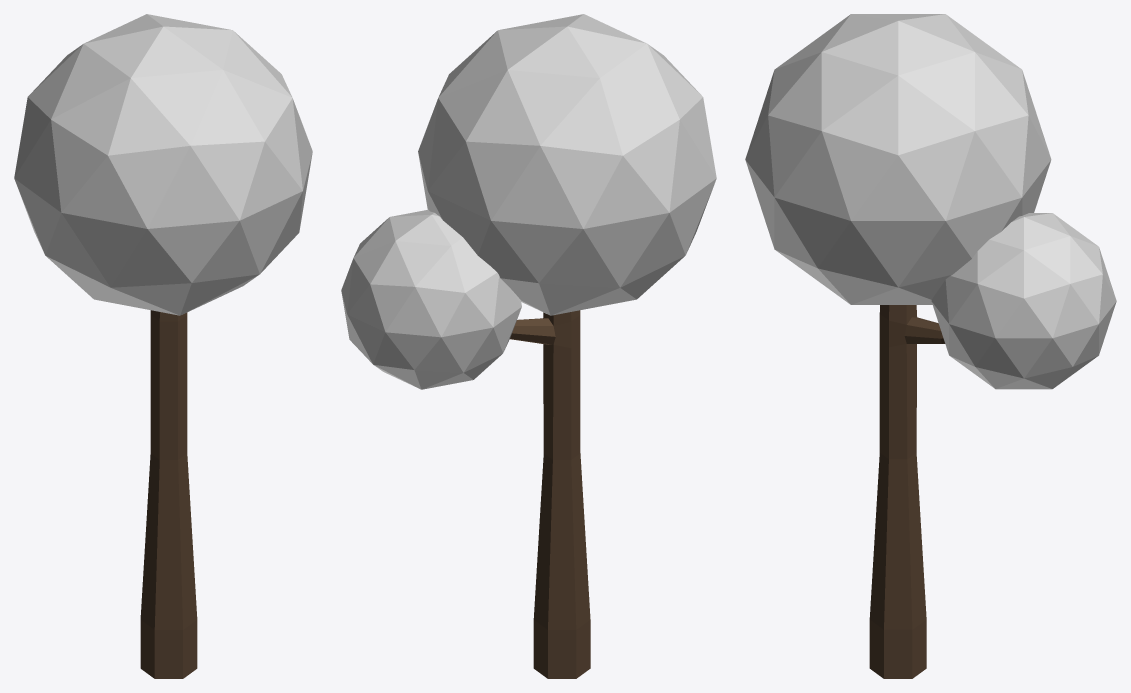
File: CircleTree_Winter.fbx
The picture shows the model from 3 angles, left to right: view 1: azimuth 30°, elevation 25°; view 2: azimuth 150°, elevation 25°; view 3: azimuth 270°, elevation 25°; orthographic projection.
Parts seen in each view (by area): view 1: CircleTree_Winter; view 2: CircleTree_Winter; view 3: CircleTree_Winter.
Part boxes in pixels (left/top/right/bottom): CircleTree_Winter: left=14, top=14, right=312, bottom=678; CircleTree_Winter: left=341, top=14, right=716, bottom=678; CircleTree_Winter: left=745, top=14, right=1116, bottom=678.
Size of the model in its own units: 147 by 330 by 172.
